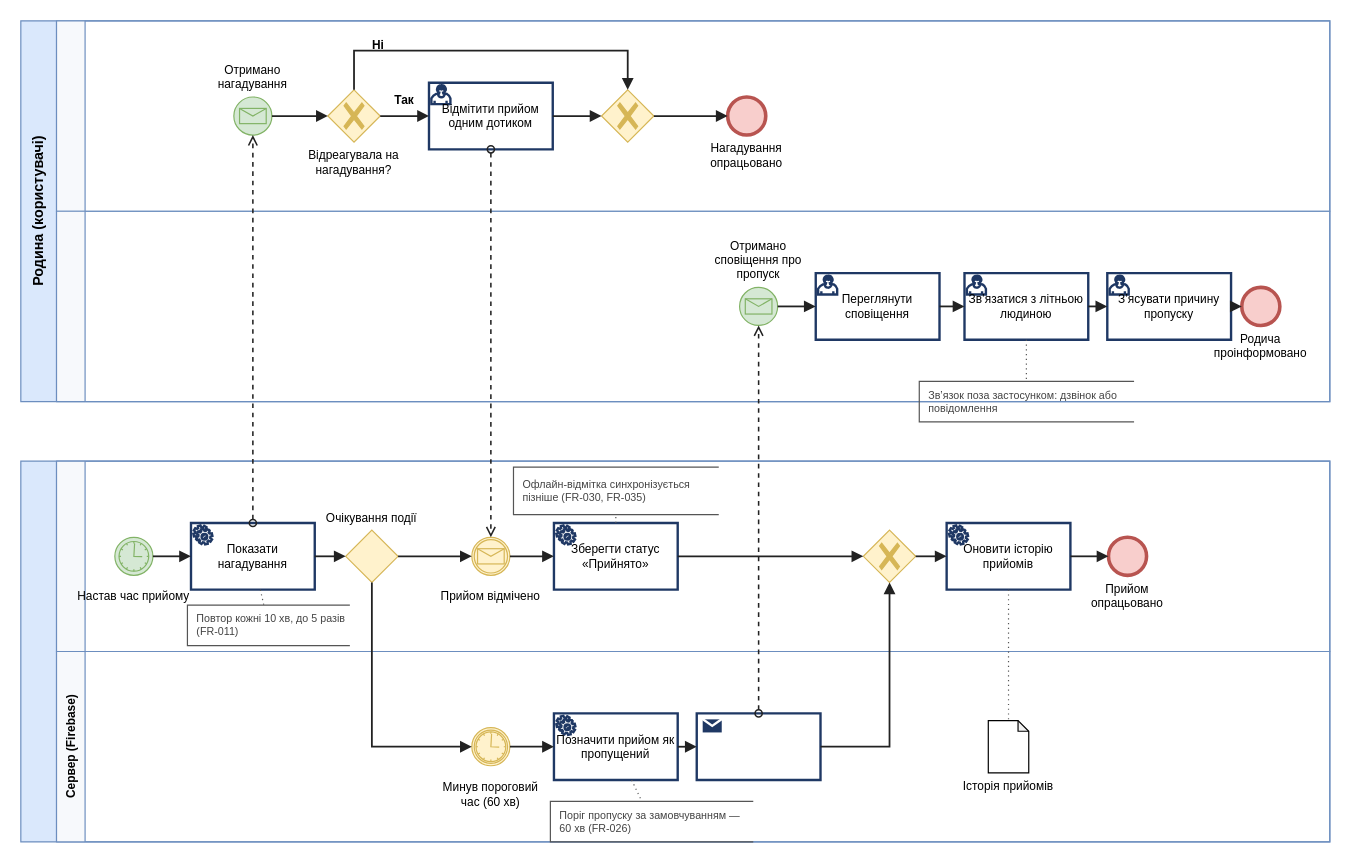
This 1351x863 diagram has some shape labels left out. The shapes that lost their labels are listed below. From the top down, each one's box as (x1, y1, x2, y2) in pixels, then its label:
(55, 20, 1330, 211): Літня людина
(55, 210, 1330, 402): Родич / опікун
(55, 460, 1330, 652): Застосунок
(20, 460, 1330, 842): Система Medicine Tracker
(695, 712, 821, 781): Надіслати push-сповіщення родичу
